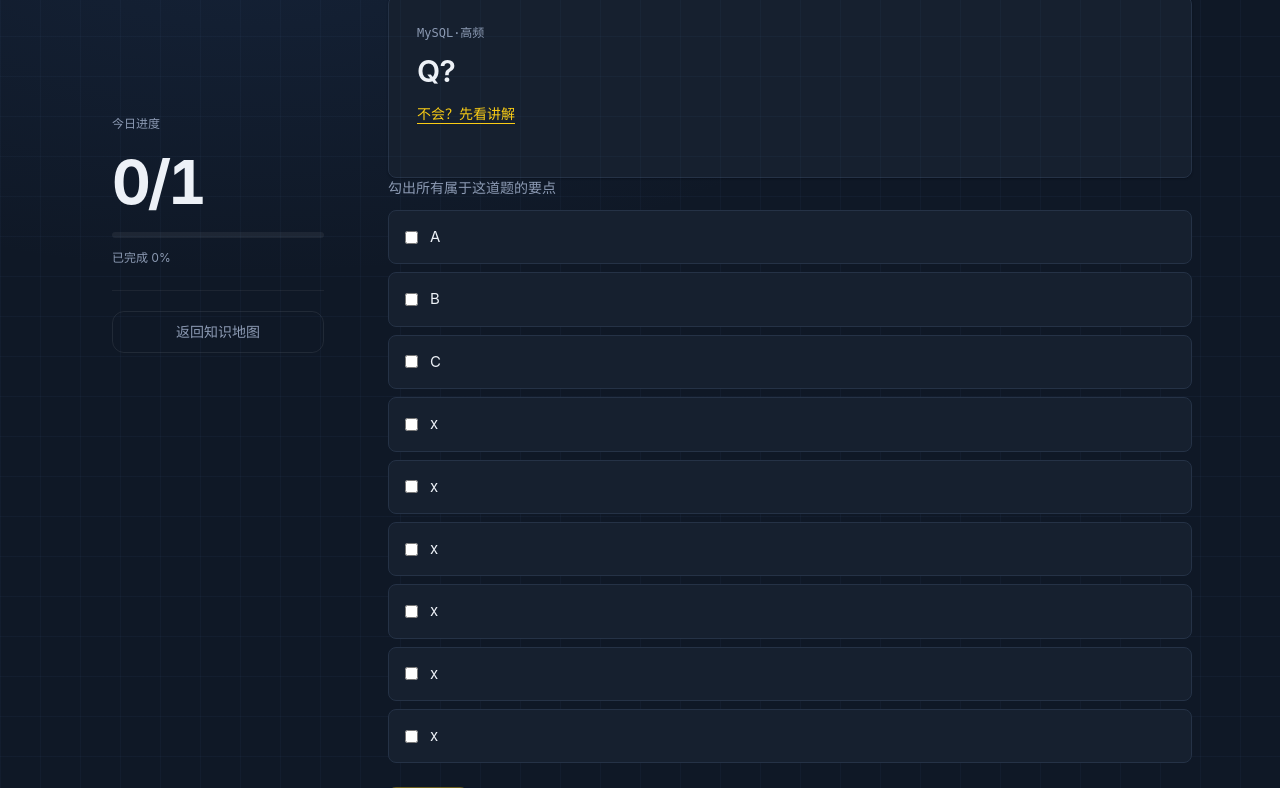
离线提交：入队且屏②本地判分出反馈 +「计划将在联网后更新」
Click the checkbox labelled "A". click: (412, 237)
box: [405,231,418,244]
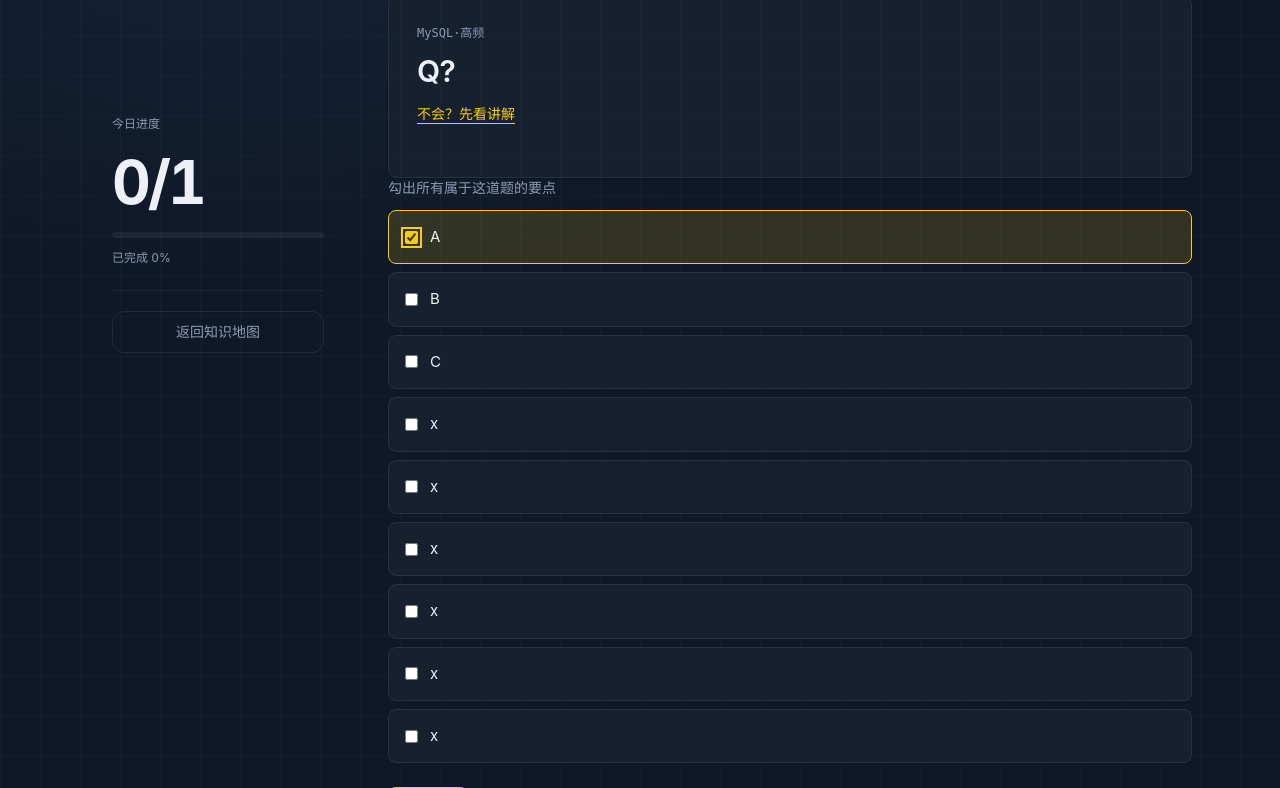
Click the checkbox labelled "B". click: (412, 300)
box: [405,293,418,306]
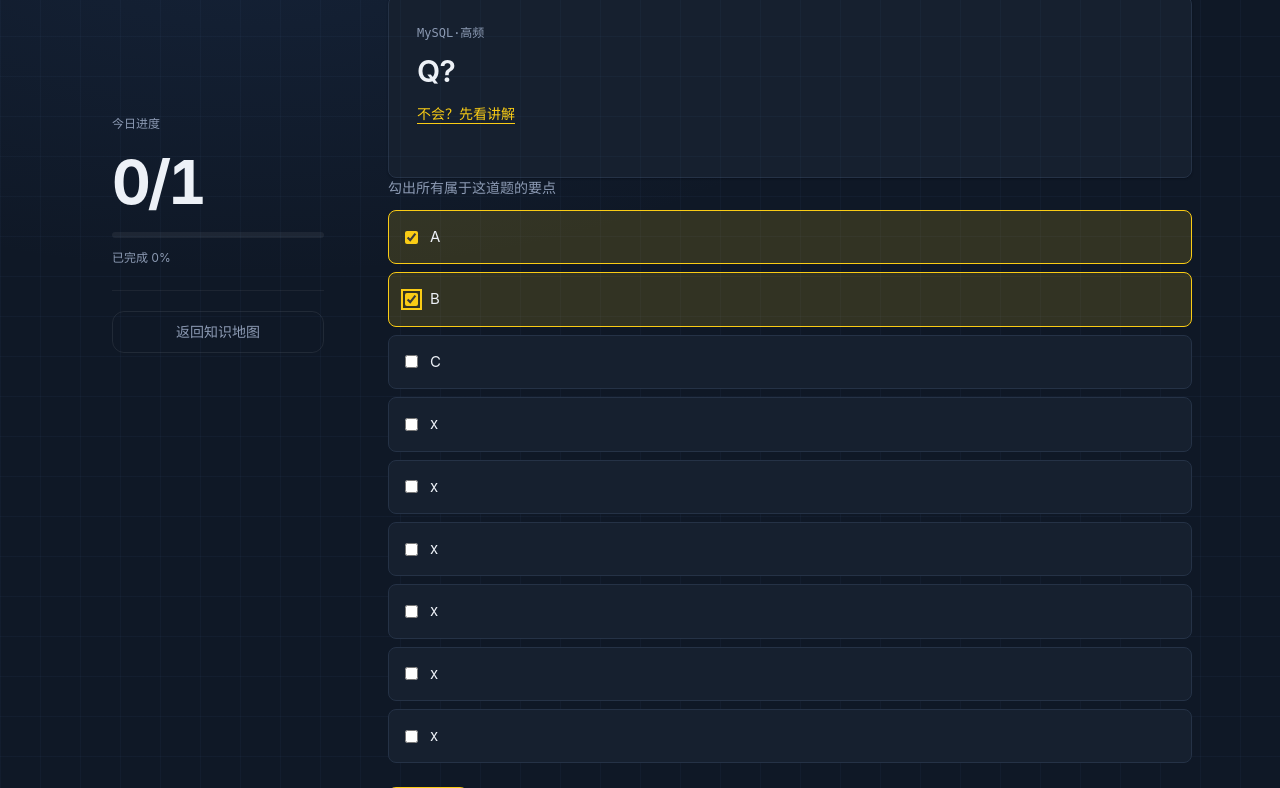
Click the checkbox labelled "C". click: (412, 362)
box: [405,355,418,368]
(page scrolled)
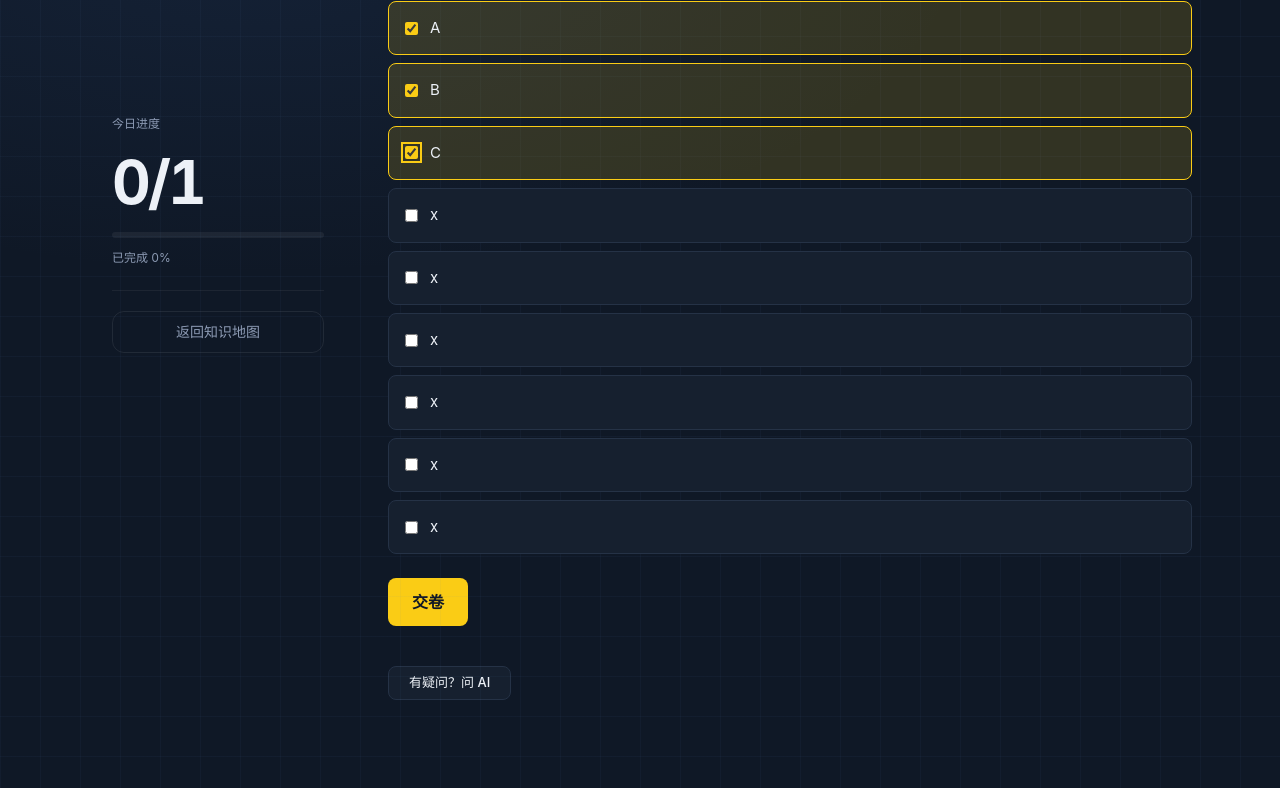
Click the button "交卷". click: (428, 602)
box: [388,578,468,626]
(page scrolled)
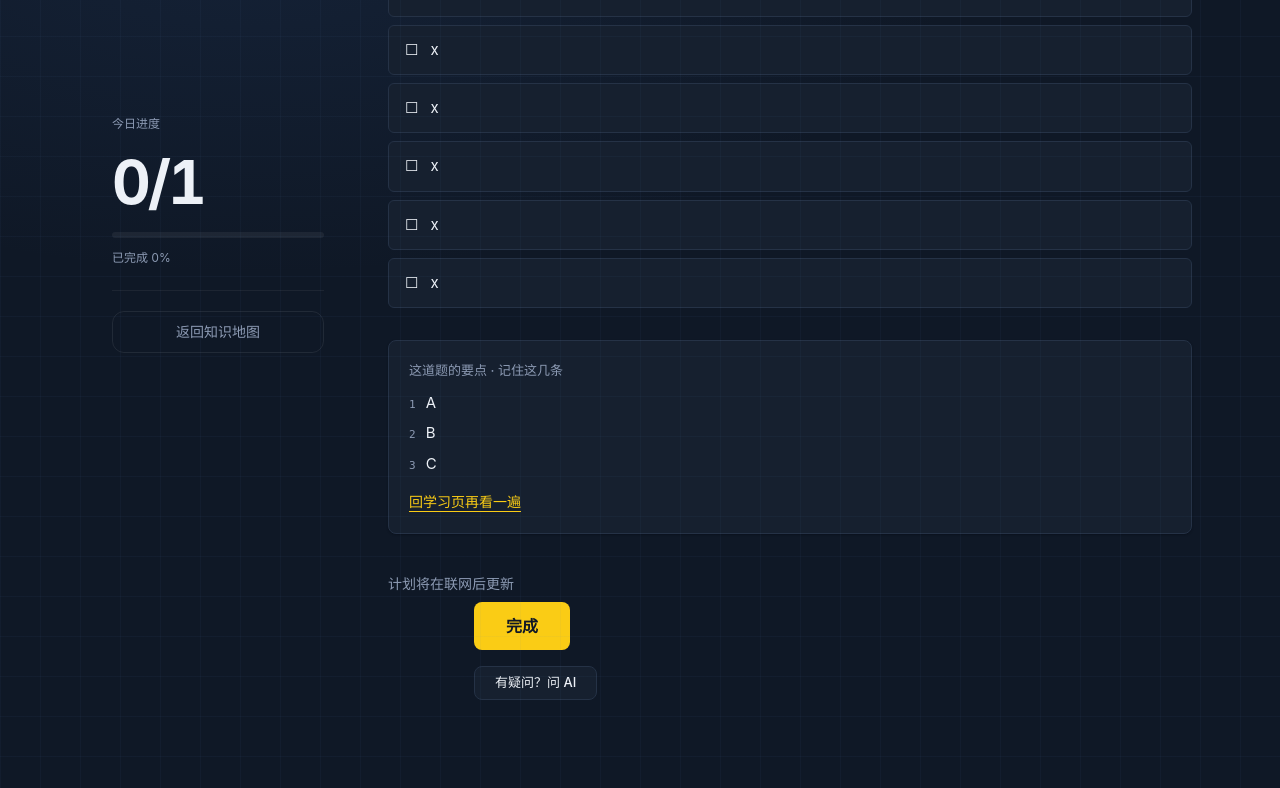
Result: the text "计划将在联网后更新" is shown at [388,575,514,592]
